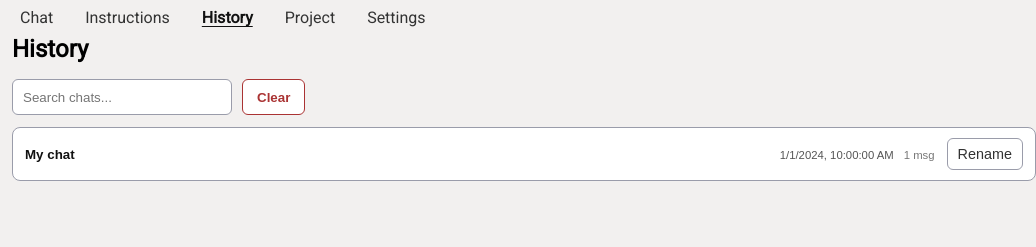
HistoryPage accessibility › error messages use role=alert with aria-live=assertive
Click the button "Clear".
click(274, 97)  # box [242,79,305,115]
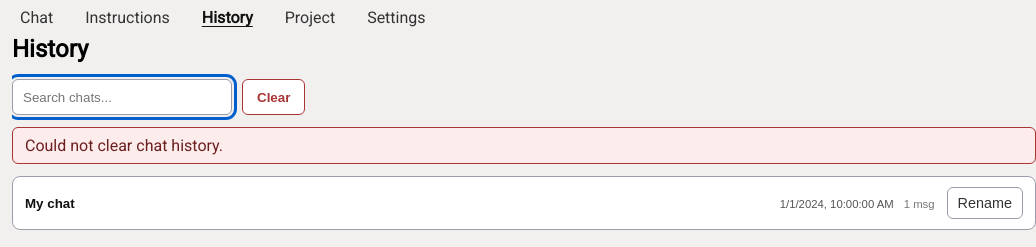
Expected: the message shows "Could not clear chat history", [25,136,223,155]
